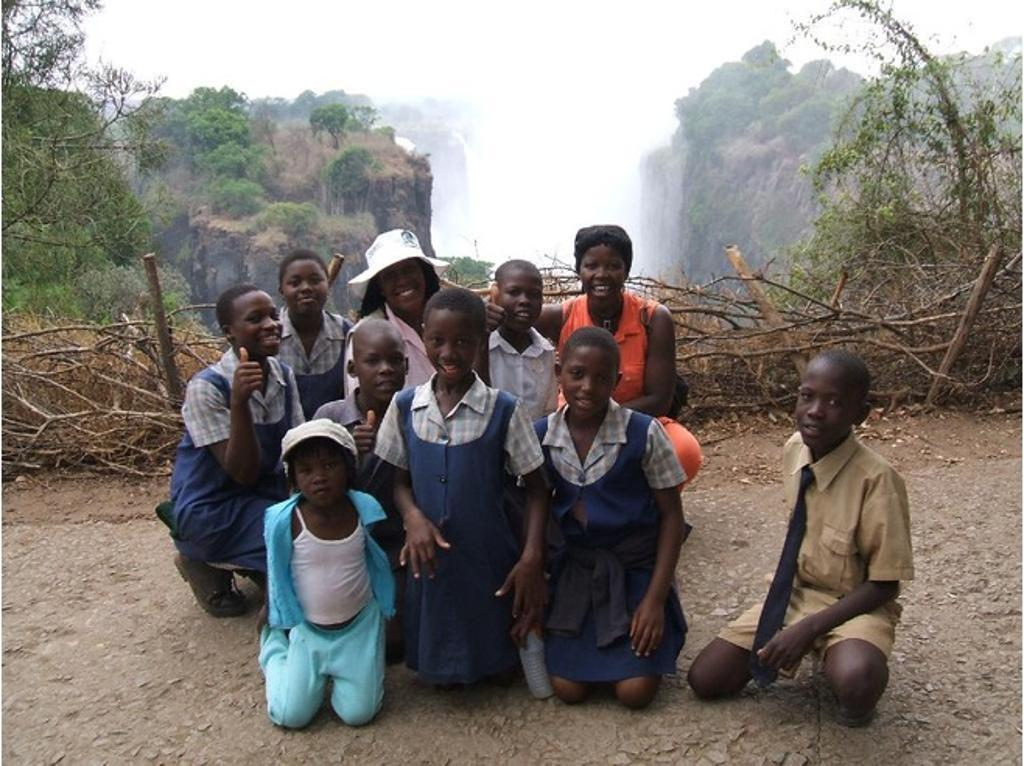face: (794, 362, 852, 445), (562, 342, 615, 416), (296, 435, 347, 502), (423, 308, 471, 377), (232, 293, 284, 353), (357, 335, 405, 398), (578, 245, 623, 302), (502, 271, 541, 328), (282, 263, 326, 312), (382, 261, 424, 306)
